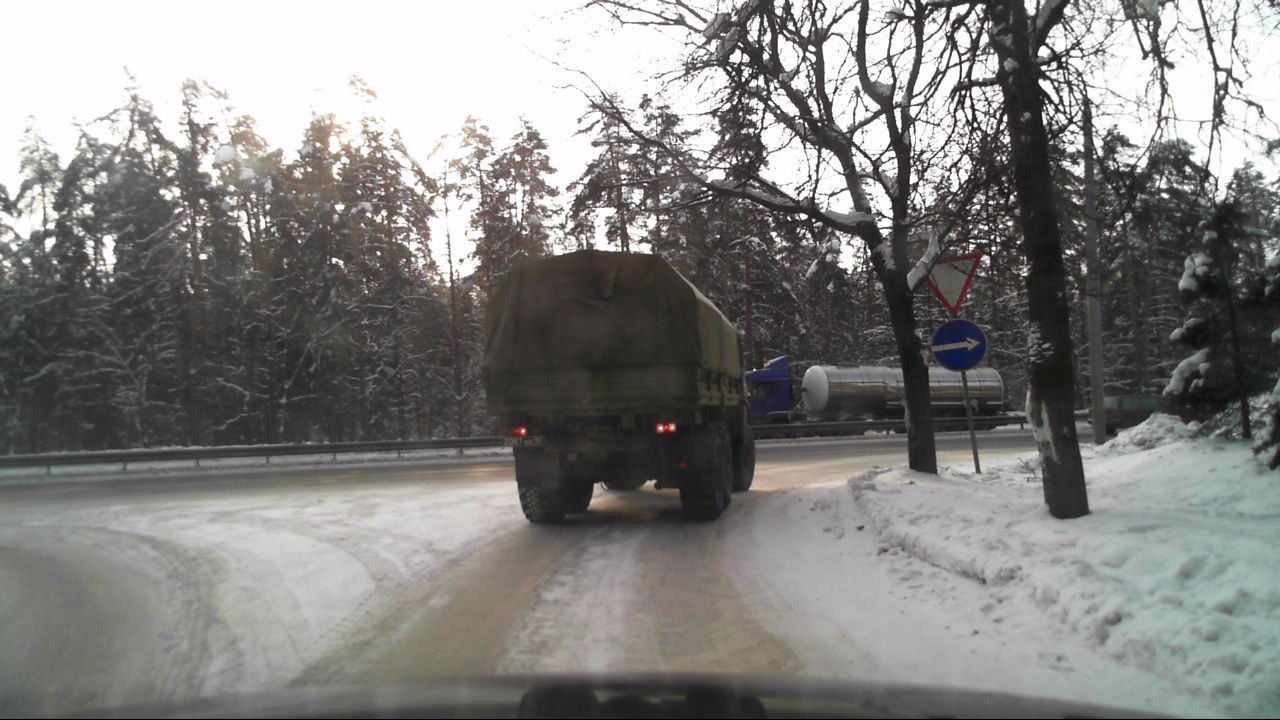Turn Right: (930, 319, 986, 372)
